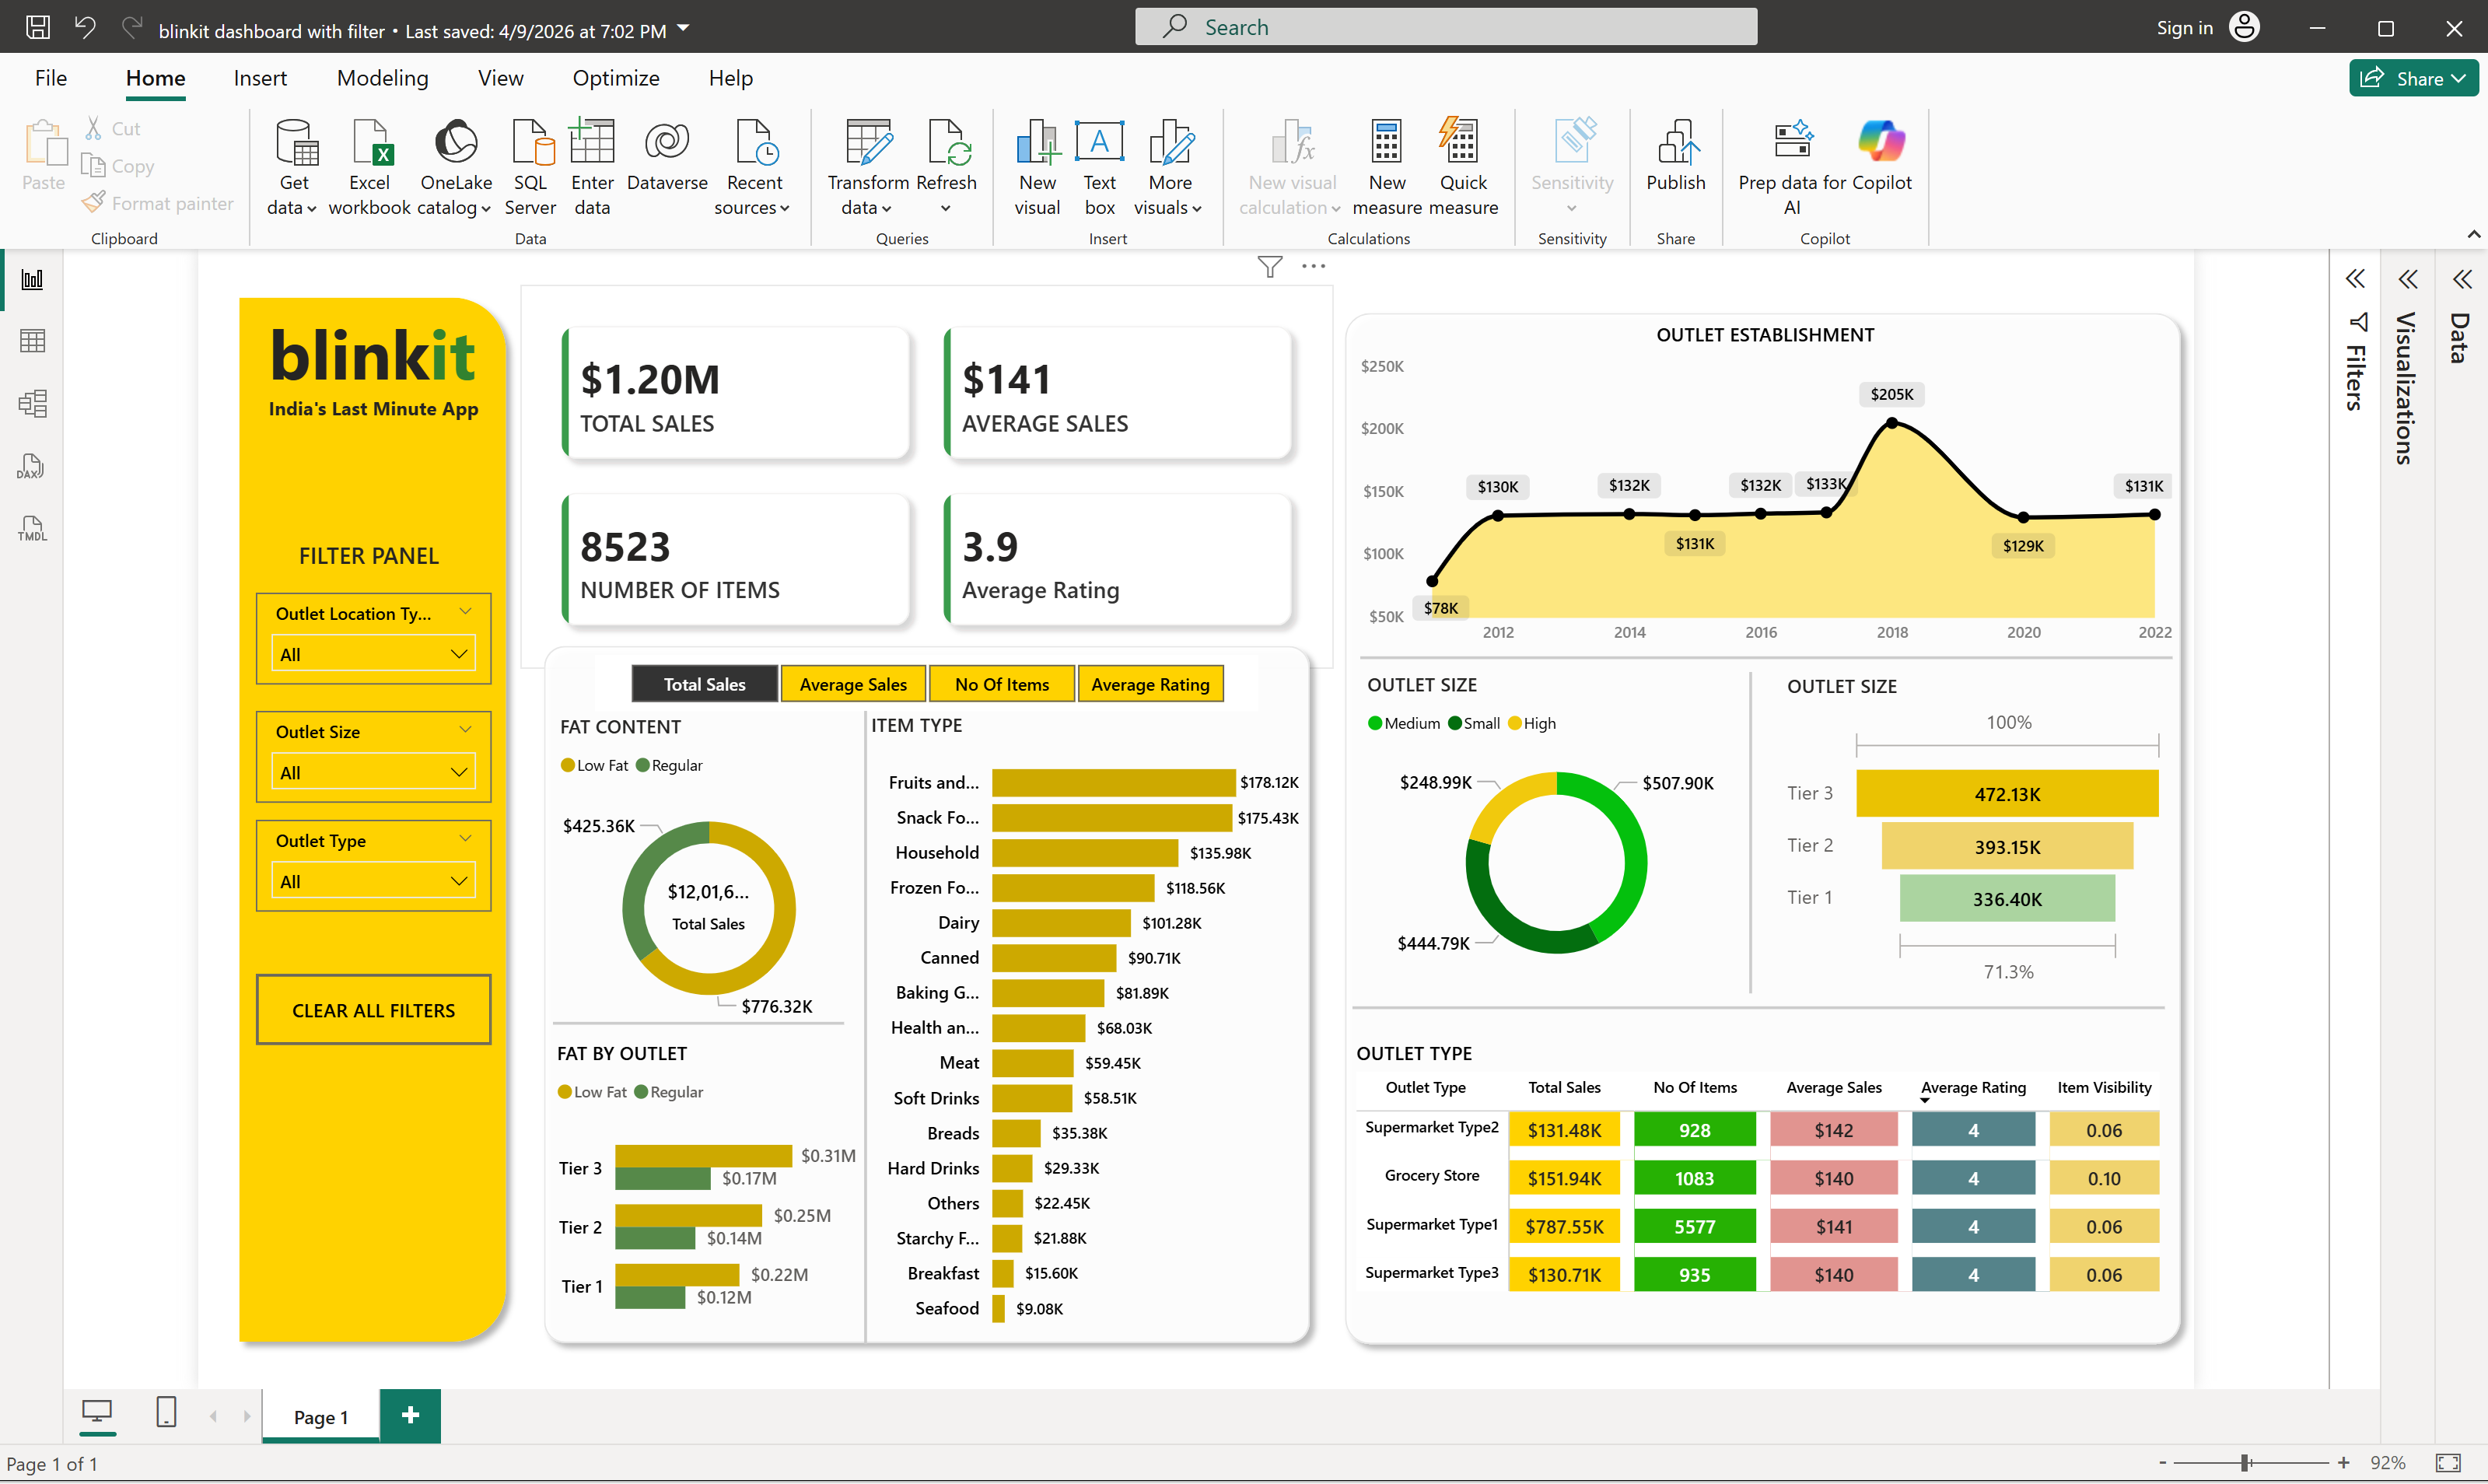

What the dashboard file says about the page in this screenshot:
{"tool":"powerbi","page":{"name":"Page 1","canvas":[1400,800],"ordinal":0},"visuals":[{"type":"shape","box":[19.7,25.3,205.2,750.6],"z":0},{"type":"textbox","box":[35.1,35.1,174.3,77.3],"z":1},{"type":"textbox","box":[35.7,97.1,174.3,30],"z":2},{"type":"cardVisual","fields":{"Data":["BlinkIT Grocery Data.Total Sales","BlinkIT Grocery Data.Average Sales","BlinkIT Grocery Data.No Of Items","BlinkIT Grocery Data.Average Rating"]},"box":[226.3,25.3,570.7,269.9],"z":3},{"type":"shape","box":[233.3,269.9,555.2,507],"z":4},{"type":"donutChart","title":"FAT CONTENT","fields":{"Category":["BlinkIT Grocery Data.Item Fat Content"],"Y":["BlinkIT Grocery Data.Total Sales"]},"box":[248.8,324.7,219.3,230.5],"z":5},{"type":"slicer","fields":{"Values":["Matrics.Matrics"]},"box":[278.3,285.3,465.3,39.4],"z":6},{"type":"card","fields":{"Values":["BlinkIT Grocery Data.Total Sales"]},"box":[322.9,430,70,60],"z":8},{"type":"clusteredBarChart","title":"FAT BY OUTLET","fields":{"Category":["BlinkIT Grocery Data.Outlet Location Type"],"Series":["BlinkIT Grocery Data.Item Fat Content"],"Y":["BlinkIT Grocery Data.Total Sales"]},"box":[247.1,554.3,220,212.9],"z":9},{"type":"shape","box":[248.6,532.9,204.3,21.4],"z":10},{"type":"shape","box":[447.1,324.3,41.4,444.3],"z":11},{"type":"barChart","title":"ITEM TYPE","fields":{"Y":["BlinkIT Grocery Data.Total Sales"],"Category":["BlinkIT Grocery Data.Item Type"]},"box":[467.1,324.3,310,444.3],"z":12},{"type":"shape","box":[795.7,35.7,604.3,741.4],"z":13},{"type":"lineChart","title":"OUTLET ESTABLISHMENT","fields":{"Y":["BlinkIT Grocery Data.Total Sales"],"Category":["BlinkIT Grocery Data.Outlet Establishment Year"]},"box":[810,50,580,235.7],"z":14},{"type":"shape","box":[815.7,275.7,570,21.4],"z":15},{"type":"donutChart","title":"OUTLET SIZE","fields":{"Y":["BlinkIT Grocery Data.Total Sales"],"Category":["BlinkIT Grocery Data.Outlet Size"]},"box":[815.7,295.7,275.7,225.7],"z":16},{"type":"funnel","title":"OUTLET SIZE","fields":{"Y":["Sum(BlinkIT Grocery Data.Sales)"],"Category":["BlinkIT Grocery Data.Outlet Location Type"]},"box":[1110,297.1,275.7,225.7],"z":17},{"type":"shape","box":[810,521.4,570,21.4],"z":18},{"type":"slicer","fields":{"Values":["BlinkIT Grocery Data.Outlet Location Type"]},"box":[40,241.4,165.7,64.3],"z":19},{"type":"slicer","fields":{"Values":["BlinkIT Grocery Data.Outlet Size"]},"box":[40,324.3,165.7,64.3],"z":20},{"type":"slicer","fields":{"Values":["BlinkIT Grocery Data.Outlet Type"]},"box":[40,400,165.7,64.3],"z":21},{"type":"textbox","box":[65.7,198.6,112.9,42.9],"z":22},{"type":"pivotTable","title":"OUTLET TYPE","fields":{"Rows":["BlinkIT Grocery Data.Outlet Type"],"Values":["BlinkIT Grocery Data.Total Sales","BlinkIT Grocery Data.No Of Items","BlinkIT Grocery Data.Average Sales","BlinkIT Grocery Data.Average Rating","Avg(BlinkIT Grocery Data.Item Visibility)"]},"box":[807.1,554.3,575.7,222.9],"z":23},{"type":"shape","box":[1068.6,297.1,41.4,225.7],"z":24},{"type":"actionButton","title":"cLEAR","box":[40,508.6,165.7,50],"z":25}]}

Visuals, with their boxes on the page's 1400x800 design canvas (x1, y1, x2, y2). These are canvas units, not pixel positions in the 2488x1484 screenshot, which may show the page scaled, cropped or inside an application window:
shape: bbox(20, 25, 225, 776)
textbox: bbox(35, 35, 209, 112)
textbox: bbox(36, 97, 210, 127)
cardVisual - BlinkIT Grocery Data.Total Sales x BlinkIT Grocery Data.Average Sales: bbox(226, 25, 797, 295)
shape: bbox(233, 270, 788, 777)
"FAT CONTENT" donutChart: bbox(249, 325, 468, 555)
slicer - Matrics.Matrics: bbox(278, 285, 744, 325)
card - BlinkIT Grocery Data.Total Sales: bbox(323, 430, 393, 490)
"FAT BY OUTLET" clusteredBarChart: bbox(247, 554, 467, 767)
shape: bbox(249, 533, 453, 554)
shape: bbox(447, 324, 488, 769)
"ITEM TYPE" barChart: bbox(467, 324, 777, 769)
shape: bbox(796, 36, 1400, 777)
"OUTLET ESTABLISHMENT" lineChart: bbox(810, 50, 1390, 286)
shape: bbox(816, 276, 1386, 297)
"OUTLET SIZE" donutChart: bbox(816, 296, 1091, 521)
"OUTLET SIZE" funnel: bbox(1110, 297, 1386, 523)
shape: bbox(810, 521, 1380, 543)
slicer - BlinkIT Grocery Data.Outlet Location Type: bbox(40, 241, 206, 306)
slicer - BlinkIT Grocery Data.Outlet Size: bbox(40, 324, 206, 389)
slicer - BlinkIT Grocery Data.Outlet Type: bbox(40, 400, 206, 464)
textbox: bbox(66, 199, 179, 242)
"OUTLET TYPE" pivotTable: bbox(807, 554, 1383, 777)
shape: bbox(1069, 297, 1110, 523)
"cLEAR" actionButton: bbox(40, 509, 206, 559)
